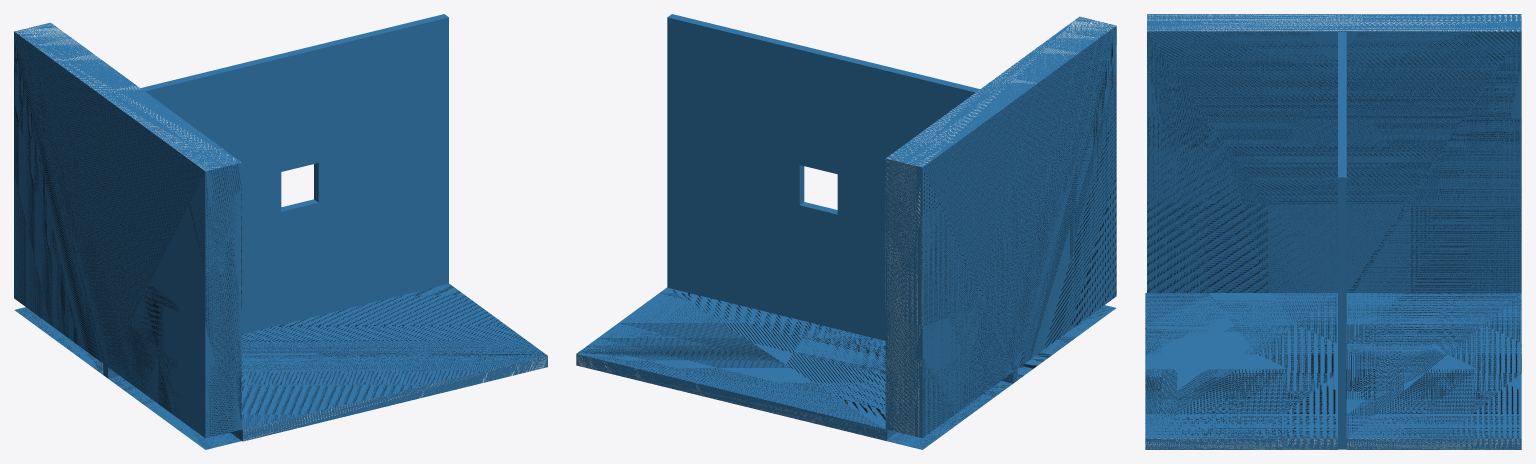
File: Twistycool_env.dae
3 renders of one model, left to right at view 1: azimuth 30°, elevation 25°; view 2: azimuth 150°, elevation 25°; view 3: azimuth 270°, elevation 25°, orthographic. The views are drawn at different scales.
Parts seen in each view (by area): view 1: SketchUp (×7), instance_0; view 2: SketchUp (×6), instance_0; view 3: SketchUp (×6), instance_0.
Boxes of the visible parts, bbox=[...] form: SketchUp (×7): bbox=[14, 22, 547, 449]; instance_0: bbox=[140, 14, 448, 334]; SketchUp (×6): bbox=[576, 16, 1116, 449]; instance_0: bbox=[667, 14, 979, 340]; SketchUp (×6): bbox=[1145, 14, 1521, 449]; instance_0: bbox=[1338, 32, 1346, 449].
Size of the model in its own units: 444 by 432 by 346.
